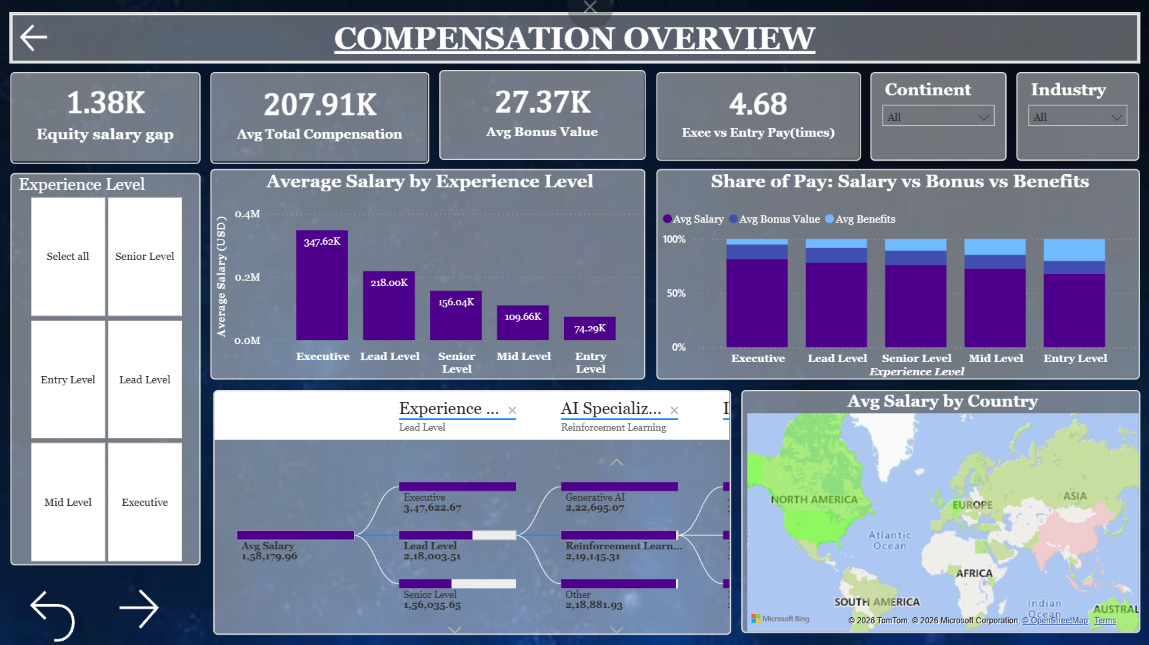

Layout of this report page (visuals, bound fields, positions):
{"tool":"powerbi","page":{"name":"COMPENSATION OVERVIEW","canvas":[1280,720],"ordinal":1},"visuals":[{"type":"shape","box":[13.6,13.6,1256.8,57.5],"z":0},{"type":"cardVisual","fields":{"Data":["Jobs.Equity Premium"]},"box":[14.3,79.5,211.6,101.8],"z":1000},{"type":"cardVisual","fields":{"Data":["Jobs.Avg Bonus Value"]},"box":[491.5,77.9,229,100.2],"z":2000},{"type":"cardVisual","fields":{"Data":["Avg(Jobs.Total Compensation)"]},"box":[237,79.5,243.4,101.8],"z":3000},{"type":"cardVisual","fields":{"Data":["Jobs.Exec vs Entry Pay"]},"box":[731.7,79.5,227.5,98.6],"z":4000},{"type":"slicer","fields":{"Values":["Jobs.Experience Level"]},"box":[14.3,192.5,211.6,435.8],"z":5000},{"type":"slicer","fields":{"Values":["Jobs.Industry"]},"box":[1132.5,79.5,136.8,98.6],"z":6000},{"type":"clusteredColumnChart","title":"Average Salary by Experience Level","fields":{"Category":["Jobs.Experience Level"],"Y":["Avg(Jobs.Salary USD)"]},"box":[237,187.7,483.5,233.8],"z":7000},{"type":"decompositionTreeVisual","fields":{"Analyze":["Jobs.Avg Salary"],"ExplainBy":["Jobs.Experience Level","Jobs.AI Specialization","Jobs.Industry","Jobs.Job Title"]},"box":[240,433.3,575,271.7],"z":8000},{"type":"hundredPercentStackedColumnChart","title":"Share of Pay: Salary vs Bonus vs Benefits","fields":{"Category":["Jobs.Experience Level"],"Y":["Jobs.Avg Salary","Jobs.Avg Bonus Value","Jobs.Avg Benefits"]},"box":[731.7,187.7,537.6,233.8],"z":9000},{"type":"slicer","fields":{"Values":["Jobs.Continent"]},"box":[970.3,79.5,151.1,98.6],"z":10000},{"type":"actionButton","box":[25.4,649,74.8,71.6],"z":11000},{"type":"actionButton","box":[128.8,649,82.7,55.7],"z":12000},{"type":"filledMap","fields":{"Category":["Jobs.Country"]},"box":[826.7,433.3,443.3,270],"z":13000},{"type":"actionButton","box":[20.7,22.3,100,40],"z":14000}]}

Visuals, with their boxes in screenshot pixels (x1, y1, x2, y2), scaled from the page's 1280x720 canvas onto the 1149x645 screenshot:
shape: region(12, 12, 1140, 64)
cardVisual - Jobs.Equity Premium: region(13, 71, 203, 162)
cardVisual - Jobs.Avg Bonus Value: region(441, 70, 647, 160)
cardVisual - Avg(Jobs.Total Compensation): region(213, 71, 431, 162)
cardVisual - Jobs.Exec vs Entry Pay: region(657, 71, 861, 160)
slicer - Jobs.Experience Level: region(13, 172, 203, 563)
slicer - Jobs.Industry: region(1017, 71, 1139, 160)
"Average Salary by Experience Level" clusteredColumnChart: region(213, 168, 647, 378)
decompositionTreeVisual - Jobs.Avg Salary x Jobs.Experience Level: region(215, 388, 732, 632)
"Share of Pay: Salary vs Bonus vs Benefits" hundredPercentStackedColumnChart: region(657, 168, 1139, 378)
slicer - Jobs.Continent: region(871, 71, 1007, 160)
actionButton: region(23, 581, 90, 644)
actionButton: region(116, 581, 190, 631)
filledMap - Jobs.Country: region(742, 388, 1140, 630)
actionButton: region(19, 20, 108, 56)
